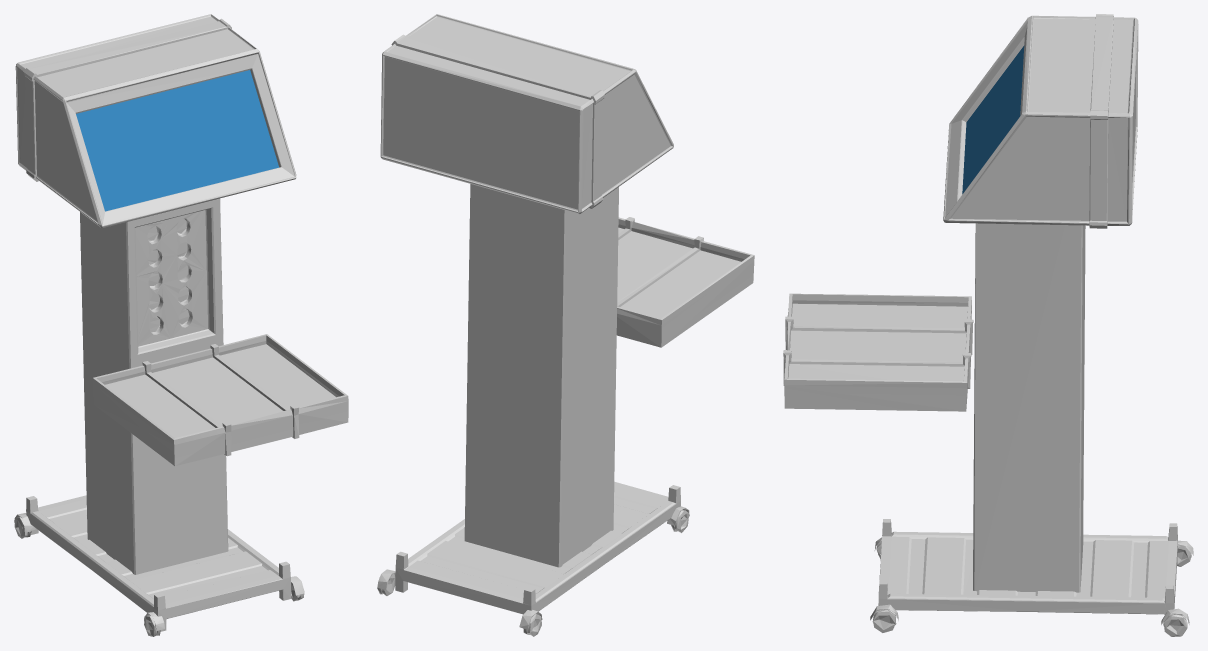
The model's file is ultrasound.fbx.
3 views of the same model, side by side, from view 1: azimuth 30°, elevation 25°; view 2: azimuth 150°, elevation 25°; view 3: azimuth 270°, elevation 25° (orthographic). The views are drawn at different scales.
Parts seen in each view (by area): view 1: tray, top, screen, wheels.001; view 2: tray, top, wheels.001; view 3: tray, top, screen, wheels.001.
Part boxes in pixels (x1=…): tray: x1=26, y1=198, x2=348, y2=631; top: x1=15, y1=14, x2=296, y2=228; screen: x1=76, y1=70, x2=279, y2=211; wheels.001: x1=14, y1=513, x2=304, y2=636; tray: x1=395, y1=184, x2=754, y2=614; top: x1=380, y1=14, x2=673, y2=213; wheels.001: x1=377, y1=506, x2=689, y2=636; tray: x1=783, y1=223, x2=1177, y2=614; top: x1=943, y1=14, x2=1138, y2=228; screen: x1=962, y1=45, x2=1024, y2=193; wheels.001: x1=870, y1=537, x2=1193, y2=636.
Size of the model in its own units: 5058 by 12145 by 8340.
